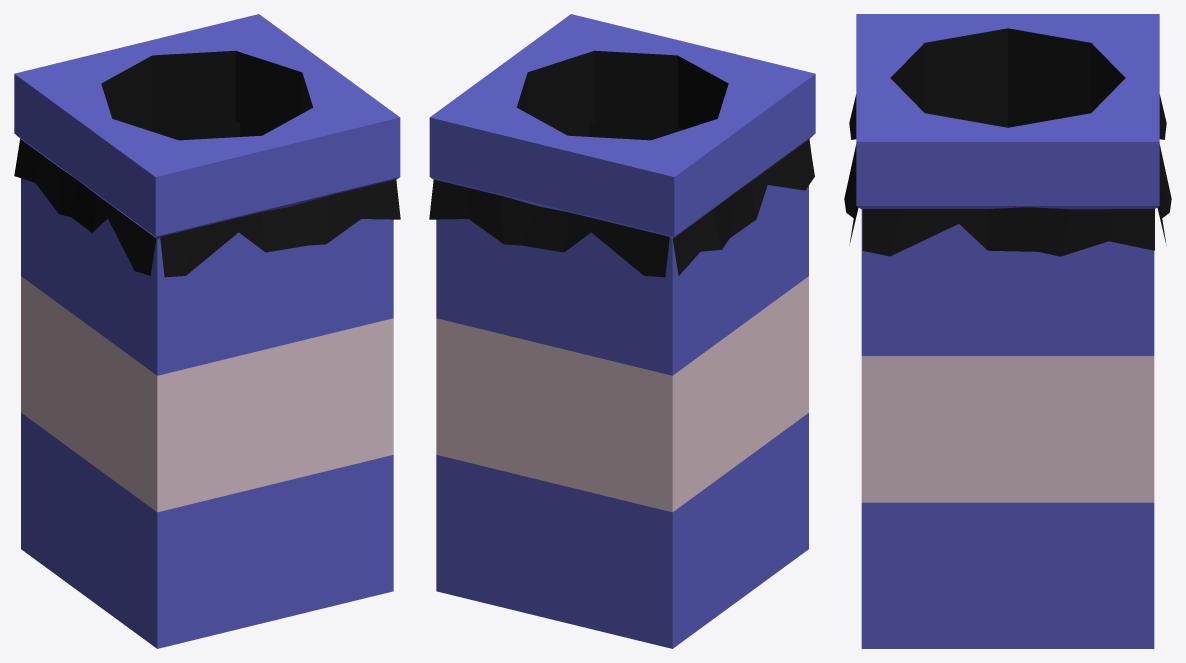
Rendered from trash.fbx.
The picture shows the model from 3 angles, left to right: view 1: azimuth 30°, elevation 25°; view 2: azimuth 150°, elevation 25°; view 3: azimuth 270°, elevation 25°; orthographic projection. The views are drawn at different scales.
Visible parts, largest first — view 1: Trash; view 2: Trash; view 3: Trash.
Boxes of the visible parts, bbox=[...] form: Trash: bbox=[14, 14, 400, 648]; Trash: bbox=[429, 14, 815, 648]; Trash: bbox=[844, 14, 1171, 648].
Size of the model in its own units: 216 by 384 by 224.
